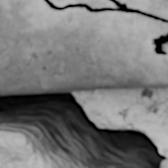brick: (0, 0, 167, 93)
broken_brick: (162, 161, 167, 167)
crack: (0, 90, 167, 167)
